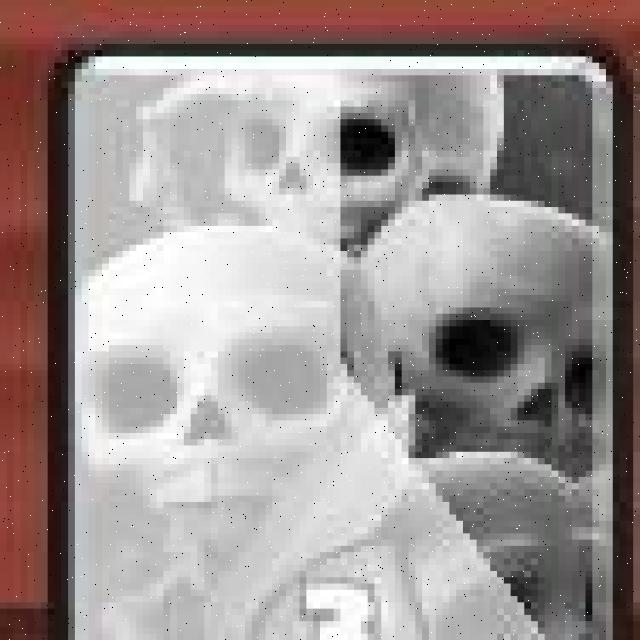Skeleton_Army: (55, 32, 625, 640)
